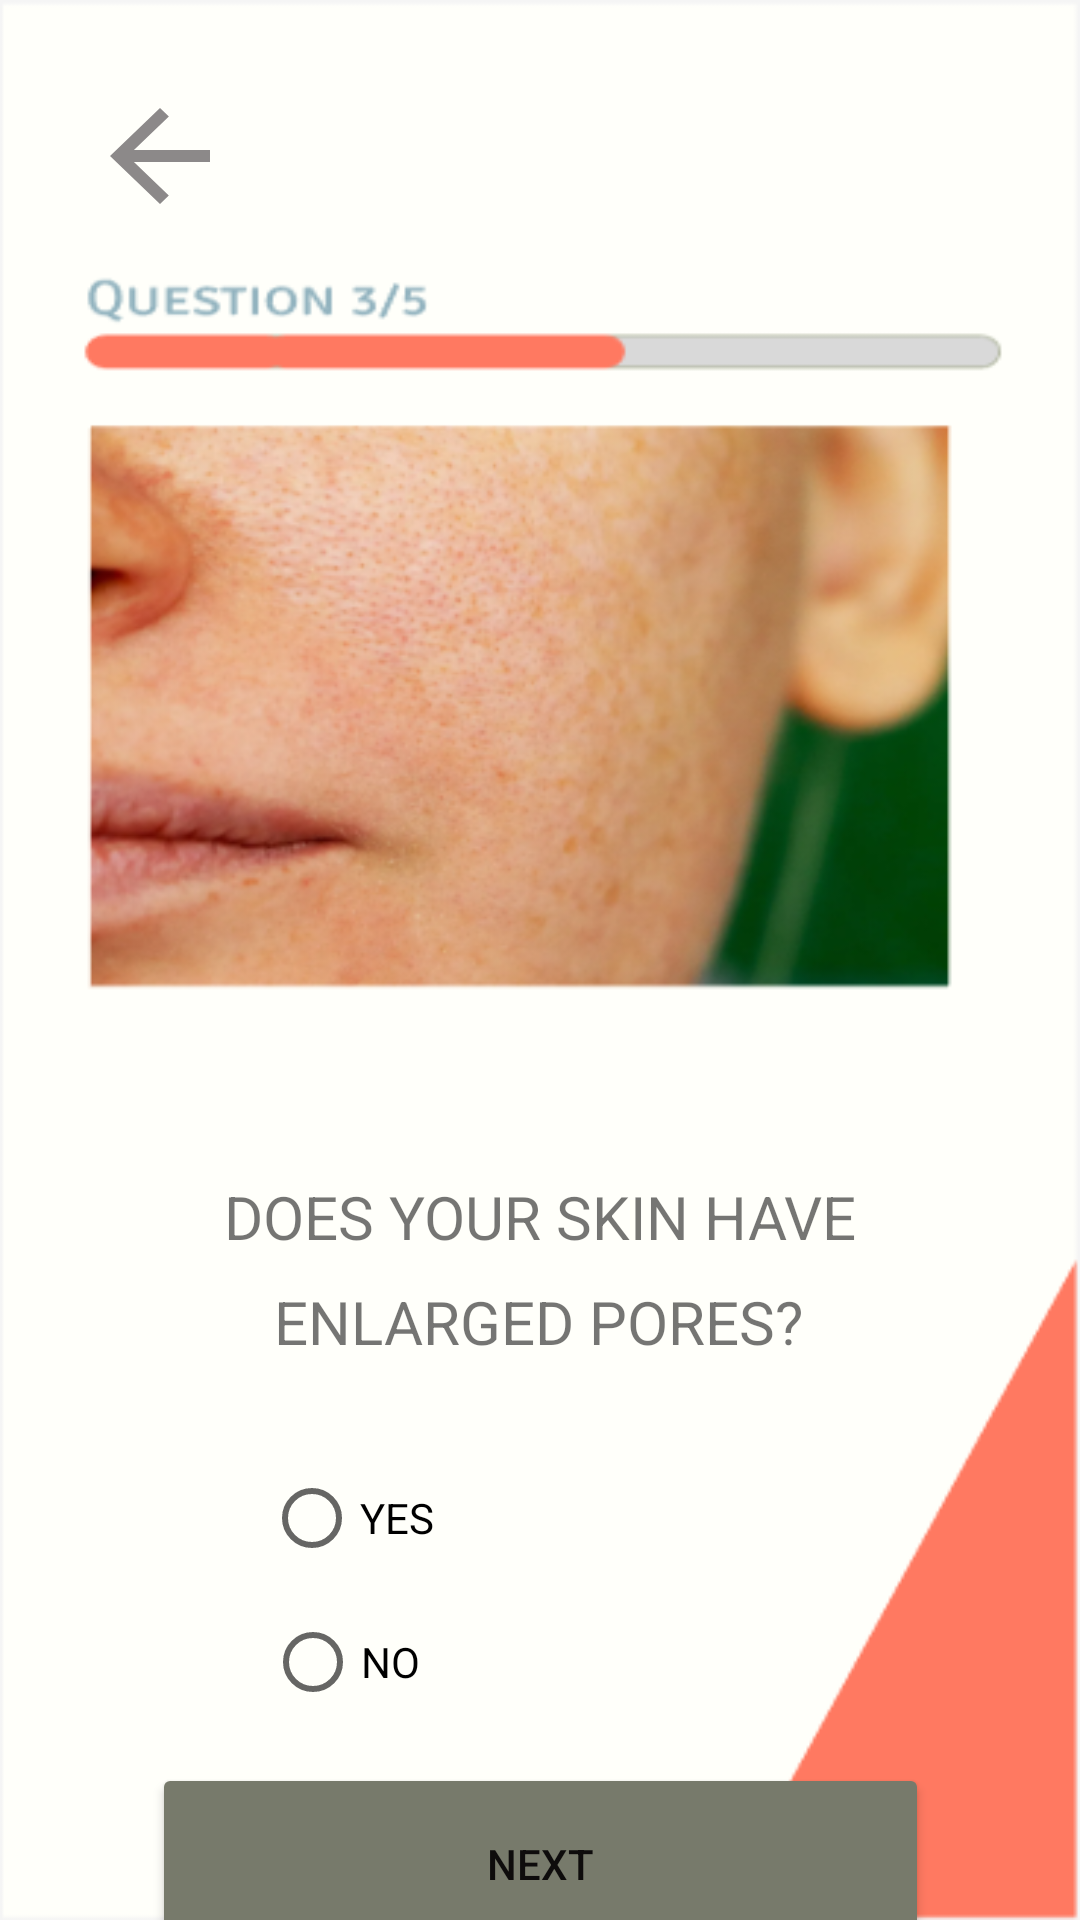

Icons on this 1080px×1920px Android screen, each with its box as (x1, y1, x2, y2):
arrow back: (110, 108, 210, 204)
